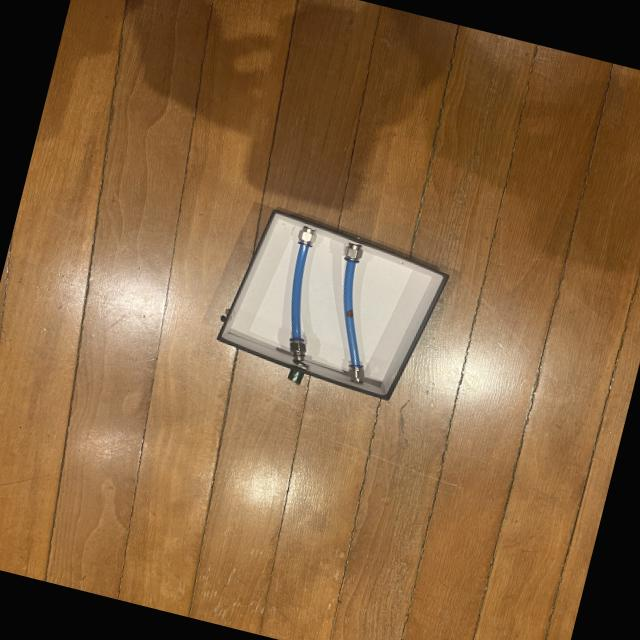hose_damage: (344, 308, 356, 318)
